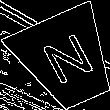N_SE: (35, 29, 98, 91)
